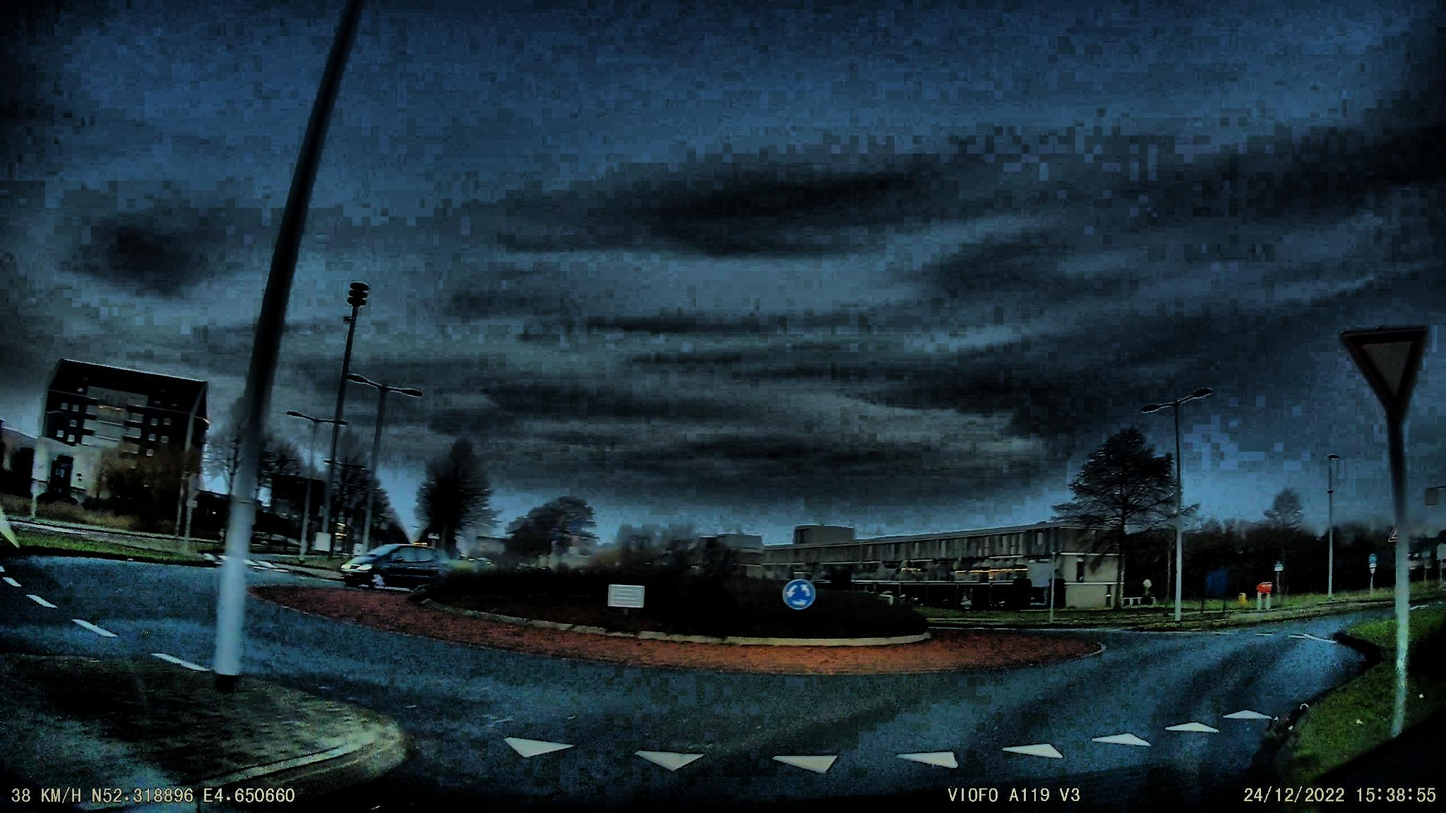Roads: (0, 556, 1374, 813)
